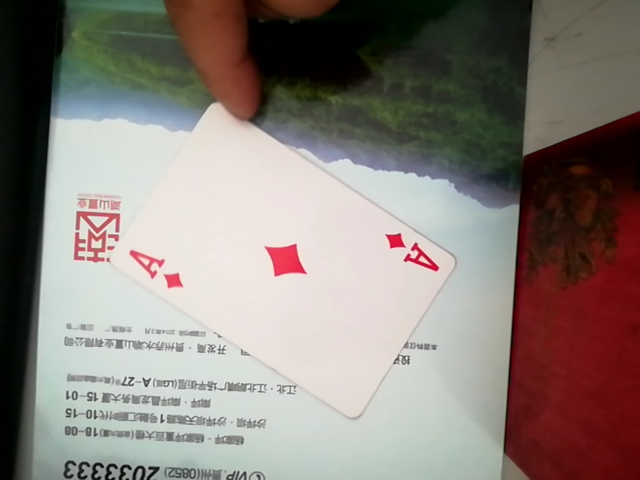fk a: (50, 98, 488, 404)
